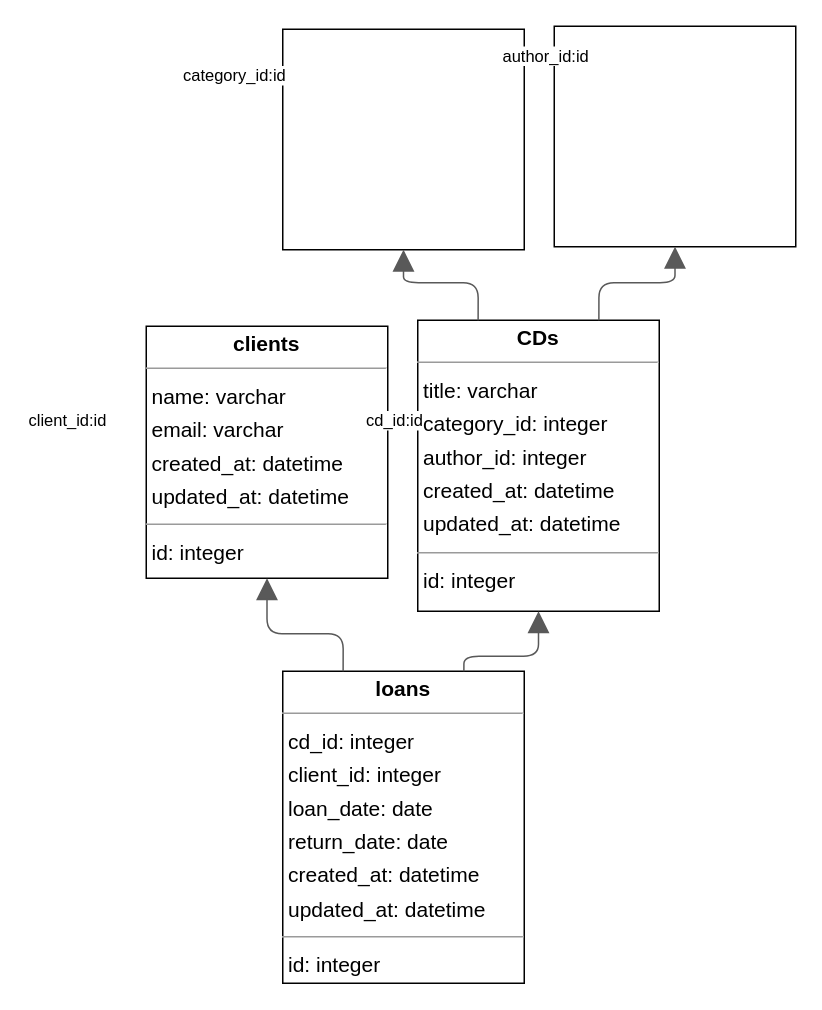
Some shapes in this 822 by 1010 pixel diagram are drawn without their labels. Each missing label, with the centre of its shape:
"authors name: varchar created_at: datetime updated_at: datetime id: integer" belongs at [674,136].
"categories name: varchar created_at: datetime updated_at: datetime id: integer" belongs at [402,139].
